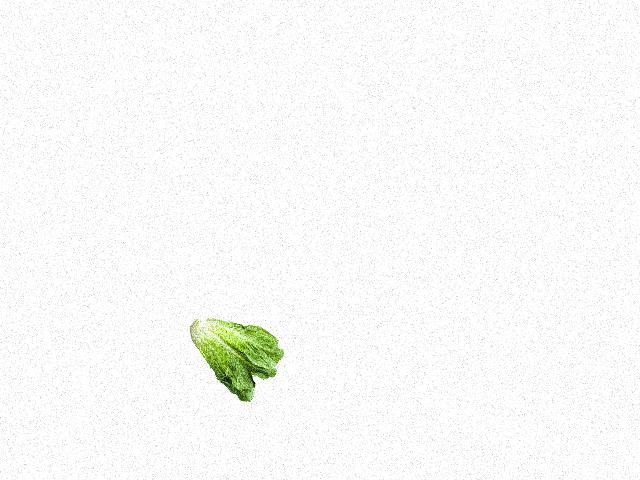lettuce: (184, 310, 283, 405)
